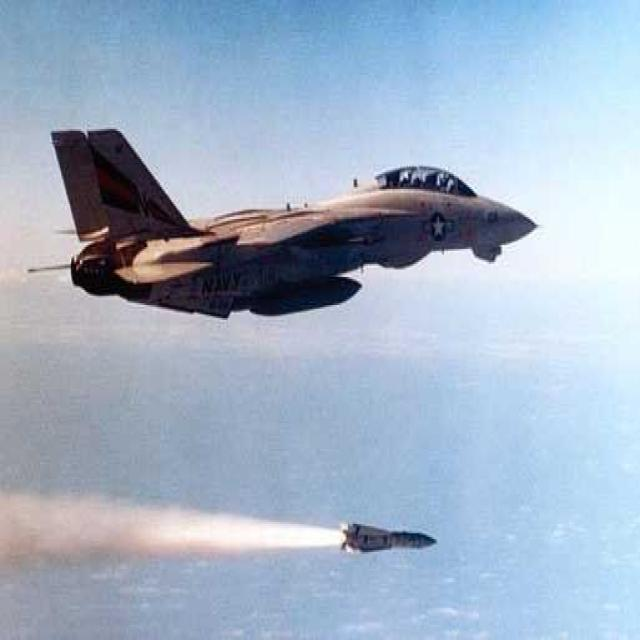missile: (338, 522, 439, 557)
